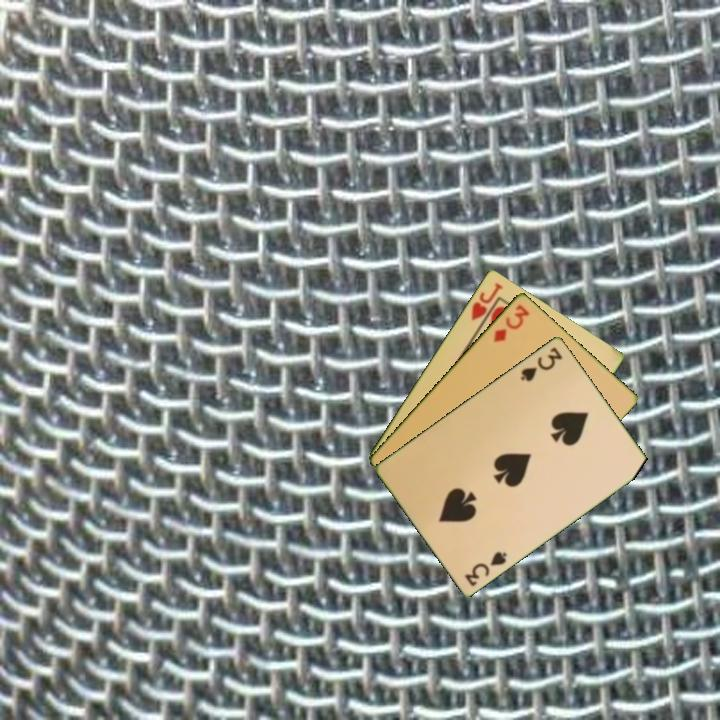3d: (490, 300, 532, 345)
3s: (461, 547, 510, 589), (517, 343, 565, 384)
Jh: (467, 279, 506, 323)
